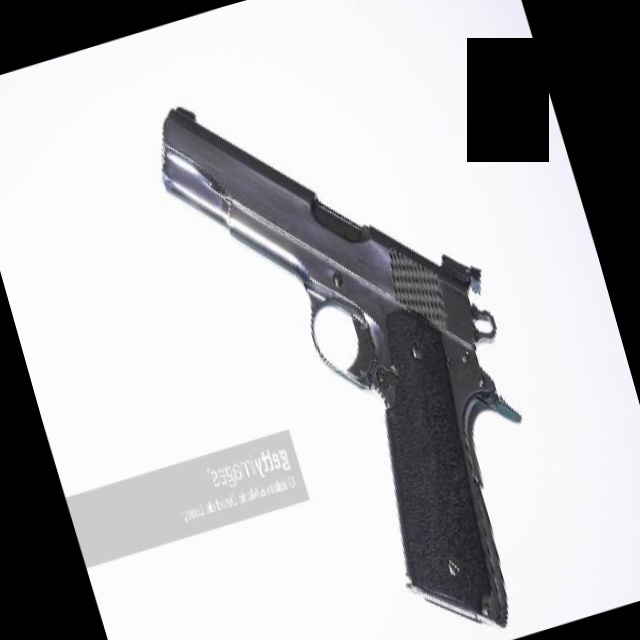gun: (139, 25, 592, 640)
